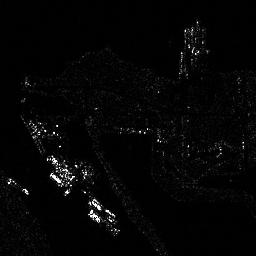ship: (86, 211, 120, 234), (49, 173, 71, 195), (6, 178, 32, 195)
